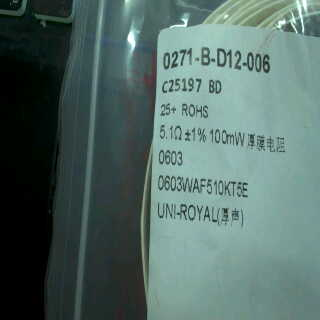5.1R: (157, 121, 184, 147)
